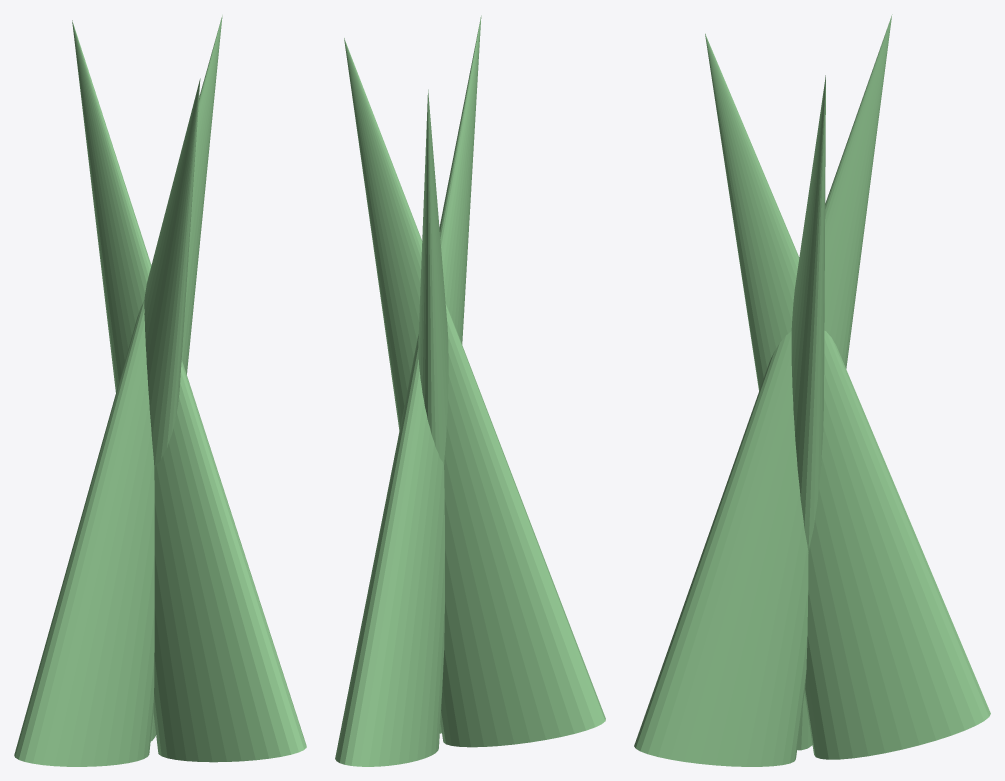
The model's file is grass_tuft.glb.
3 views of the same model, side by side, from view 1: azimuth 30°, elevation 25°; view 2: azimuth 150°, elevation 25°; view 3: azimuth 270°, elevation 25° (orthographic). The views are drawn at different scales.
Visible parts, largest first — view 1: Cone.002, Cone.001, Cone; view 2: Cone.001, Cone, Cone.002; view 3: Cone, Cone.002, Cone.001.
Boxes of the visible parts, x1=… form: Cone.002: x1=72, y1=20, x2=306, y2=762; Cone.001: x1=14, y1=15, x2=222, y2=766; Cone: x1=144, y1=78, x2=200, y2=741; Cone.001: x1=344, y1=38, x2=605, y2=747; Cone: x1=335, y1=15, x2=481, y2=766; Cone.002: x1=418, y1=89, x2=448, y2=733; Cone: x1=705, y1=33, x2=990, y2=759; Cone.002: x1=634, y1=14, x2=892, y2=766; Cone.001: x1=791, y1=75, x2=825, y2=750.
Size of the model in its own units: 0.2441 by 0.698 by 0.3127.
